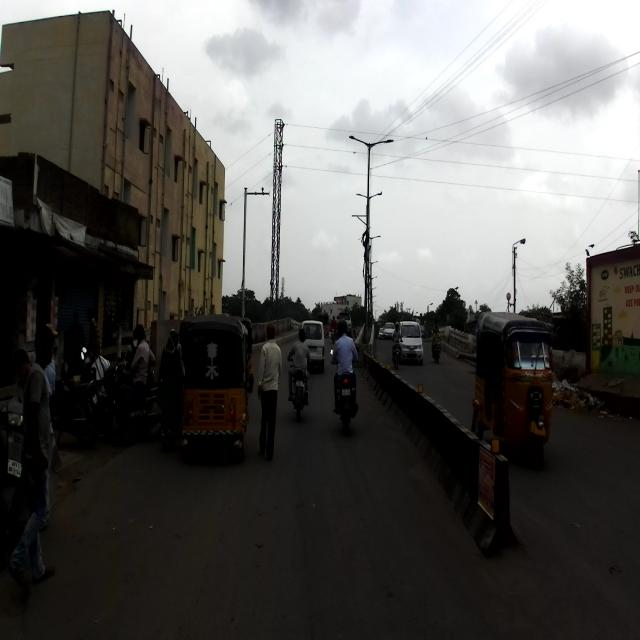autorickshaw: (472, 308, 559, 469), (180, 312, 254, 466)
motorcycle: (95, 349, 164, 439), (328, 347, 358, 437)
scooter: (78, 345, 116, 428)
